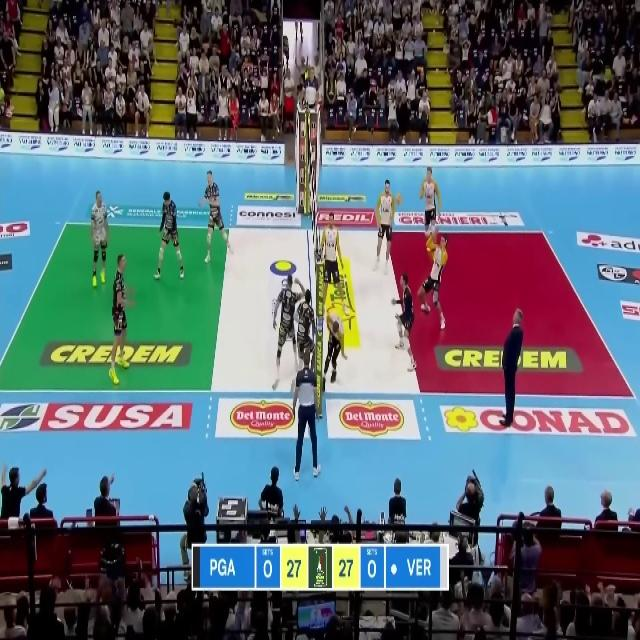volleyball court: (0, 228, 635, 397)
